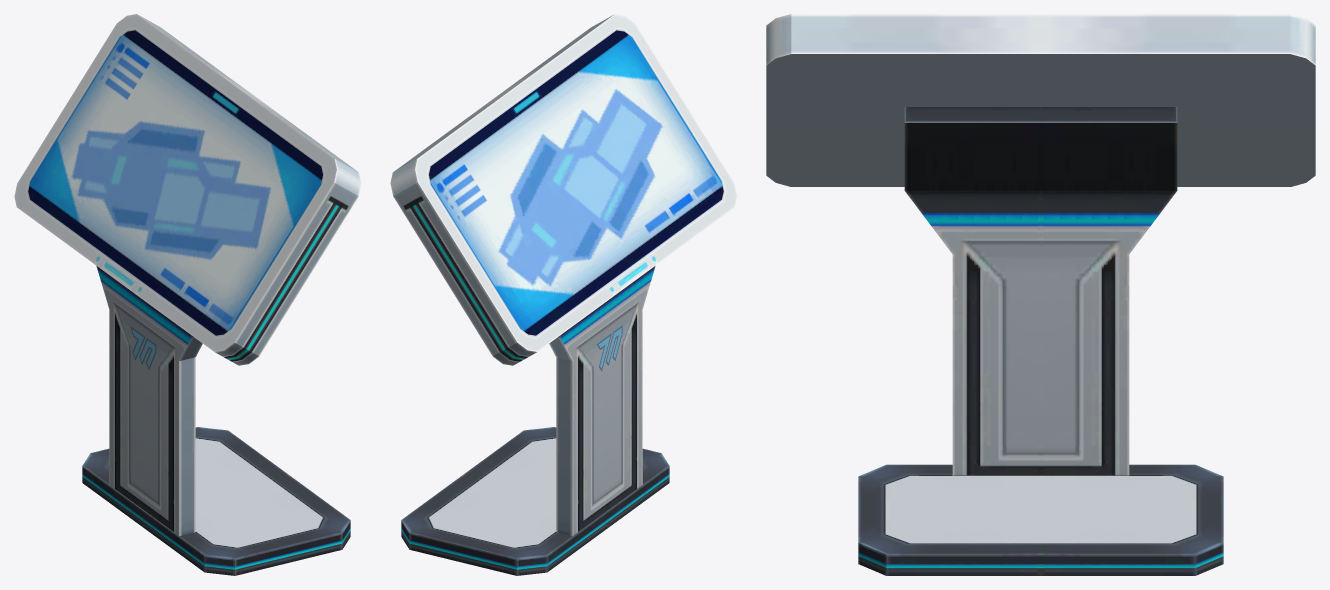
The model's file is my_millenniumlounge_01_display_04.glb.
3 renders of one model, left to right at view 1: azimuth 30°, elevation 25°; view 2: azimuth 150°, elevation 25°; view 3: azimuth 270°, elevation 25°, orthographic. The views are drawn at different scales.
Visible parts, largest first — view 1: my_millenniumlounge_01_display_04; view 2: my_millenniumlounge_01_display_04; view 3: my_millenniumlounge_01_display_04.
Boxes of the visible parts, x1=… form: my_millenniumlounge_01_display_04: x1=14, y1=14, x2=361, y2=575; my_millenniumlounge_01_display_04: x1=390, y1=14, x2=737, y2=575; my_millenniumlounge_01_display_04: x1=766, y1=14, x2=1315, y2=575.
Bounding box in the file's own units: 0.00244 × 0.00561 × 0.00528.
2 materials, 2 textured.
